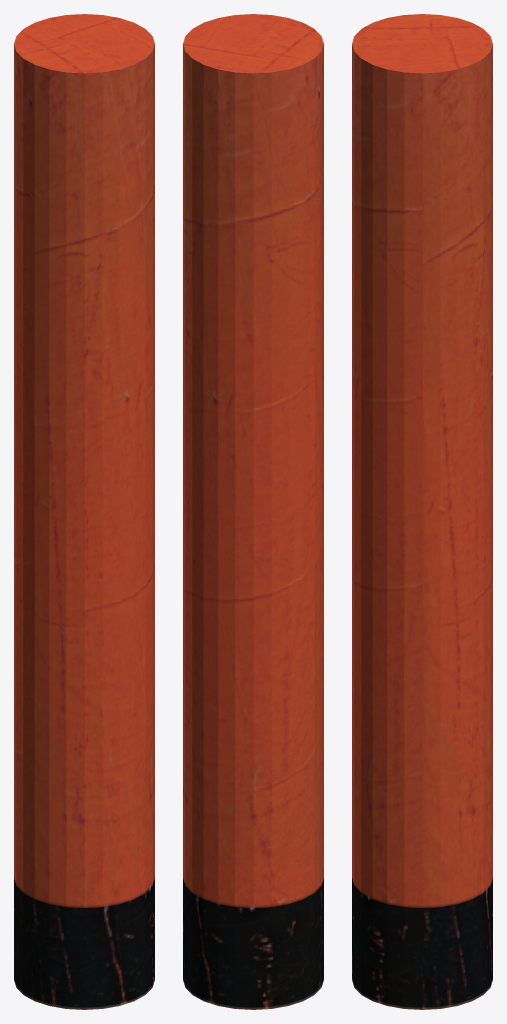
File: orange_pole.dae
The picture shows the model from 3 angles, left to right: view 1: azimuth 30°, elevation 25°; view 2: azimuth 150°, elevation 25°; view 3: azimuth 270°, elevation 25°; orthographic projection.
Visible parts, largest first — view 1: instance_0; view 2: instance_0; view 3: instance_0.
Boxes of the visible parts, <box> form: instance_0: <box>14,14,154,1009</box>; instance_0: <box>183,14,323,1009</box>; instance_0: <box>352,14,492,1009</box>.
Bounding box in the file's own units: 11.81 × 11.81 × 86.61.
Materials: 1 (1 with a texture image).
